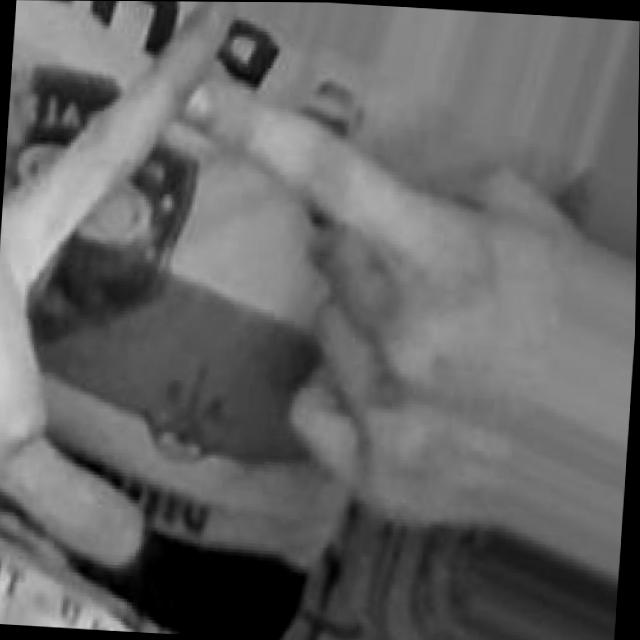J: (0, 0, 587, 603)
